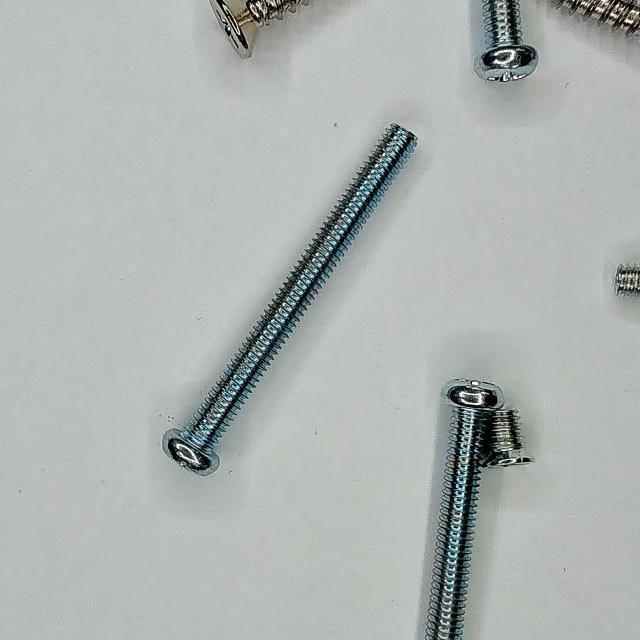Screw: (163, 124, 418, 476), (426, 380, 533, 640), (210, 0, 312, 58), (476, 0, 539, 80), (481, 410, 534, 468), (558, 0, 640, 36), (616, 265, 640, 296)
